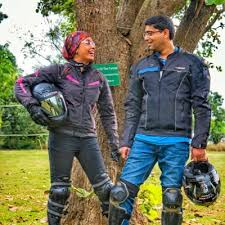helmet: (154, 142, 225, 205), (27, 79, 89, 132)
